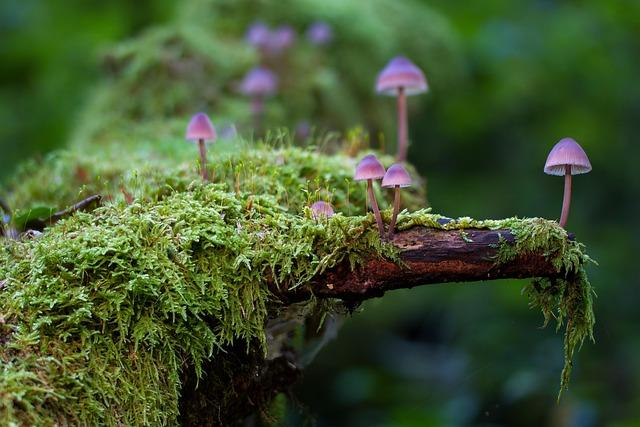Non_Gorille: (16, 57, 628, 427)
